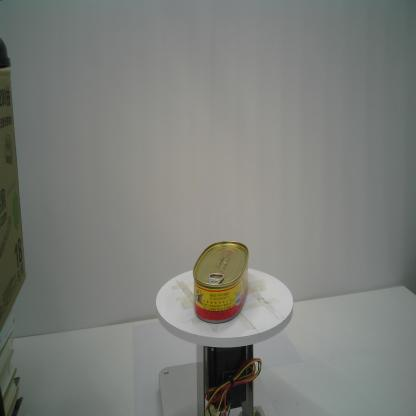Canned Food: (192, 242, 250, 325)
